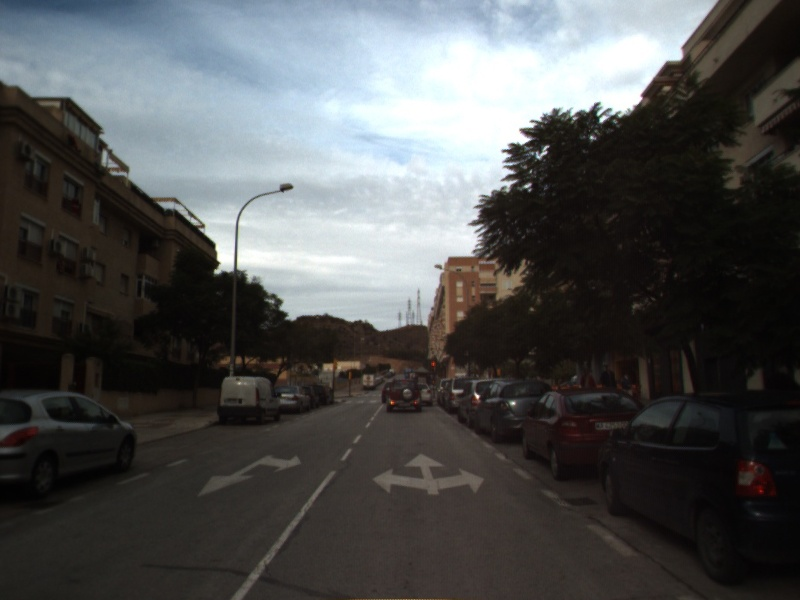STRAIGHT_LEFT_RIGHT: (370, 451, 487, 496)
